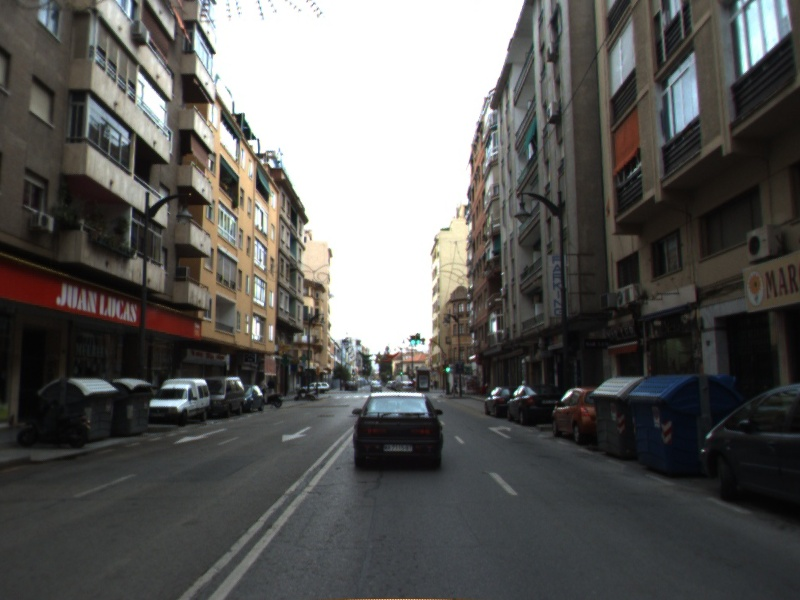RIGHT: (486, 423, 513, 440)
